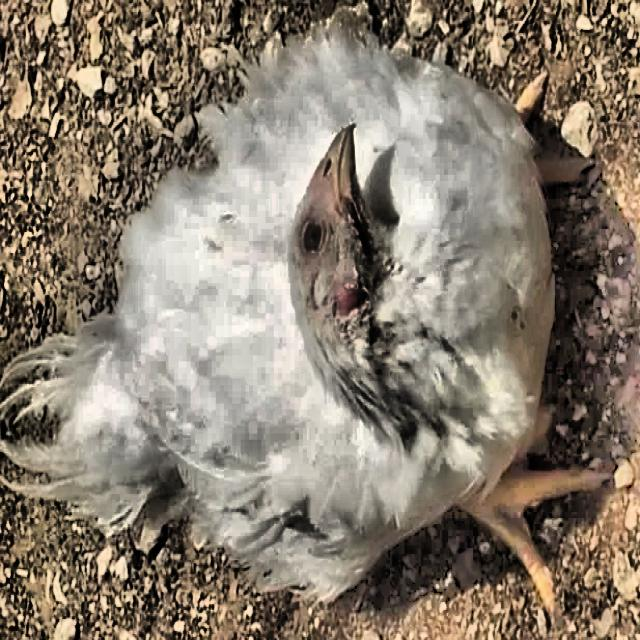Newcastle: (28, 45, 607, 619)
